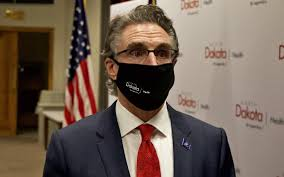mask: (117, 62, 175, 110)
